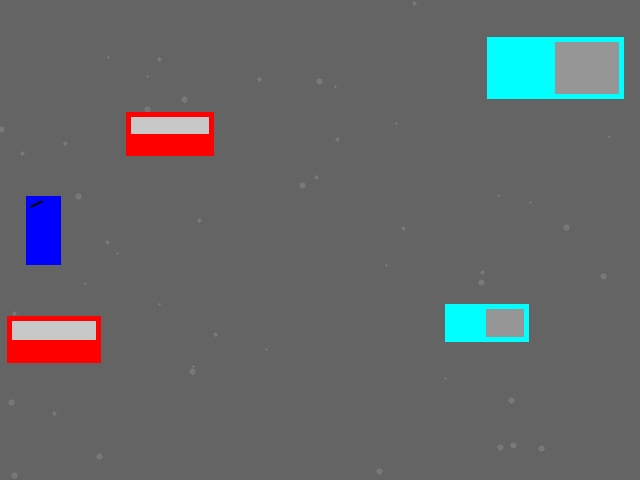car: (7, 316, 100, 362), (126, 112, 213, 155)
motorcycle: (26, 196, 60, 264)
truck: (487, 37, 623, 98), (445, 304, 528, 341)
